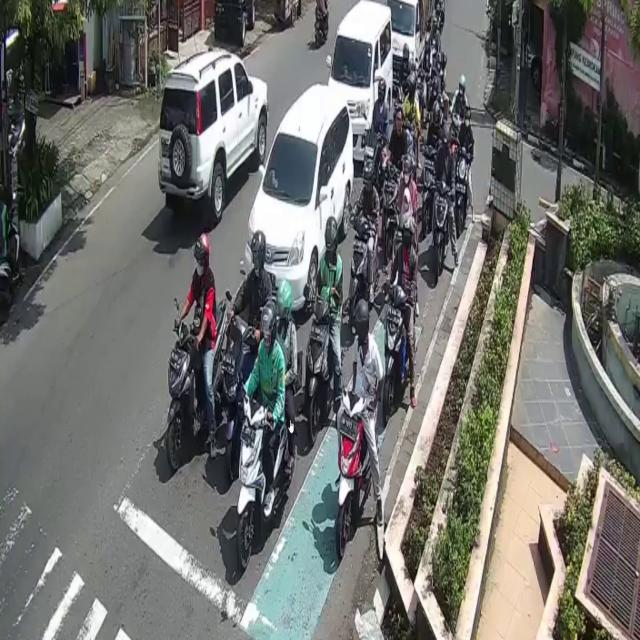bus: (163, 297, 234, 474), (237, 396, 290, 568), (337, 387, 372, 555), (305, 298, 333, 447), (383, 290, 412, 429), (352, 213, 377, 304), (434, 184, 453, 276), (454, 147, 472, 237)
motorcycle: (243, 81, 354, 319), (158, 48, 269, 224), (329, 0, 394, 162), (388, 0, 427, 74)
